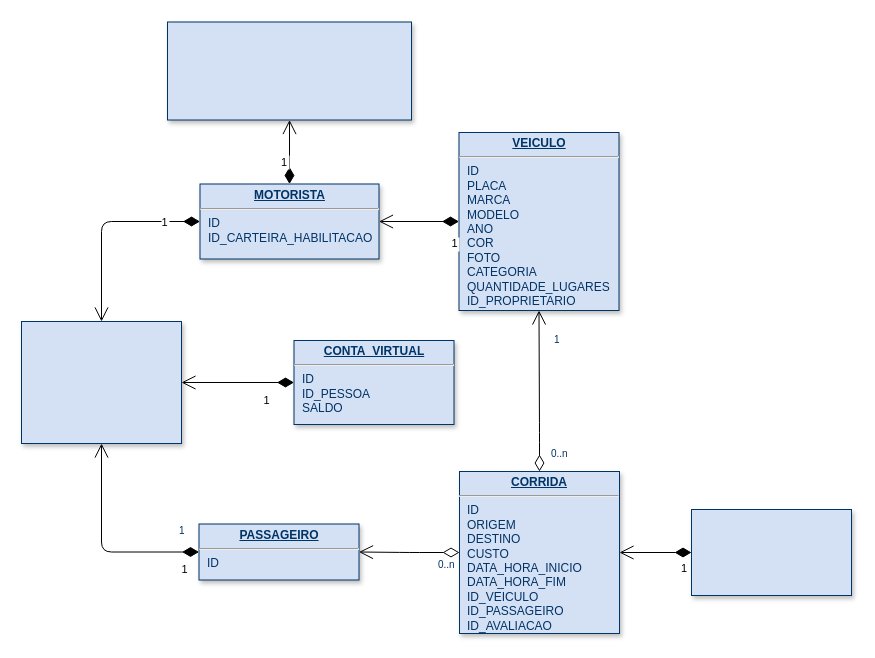
This 875x658 diagram has some shape labels left out. The centre of each missing label's shape, as x and y in pixels:
AVALIACAO ID NOTA_PASSAGEIRO NOTA_MOTORISTA: pixel 772 553
CARTEIRA_NACIONAL_HABILITACAO ID NUMERO CATEGORIA DATA_VENCIMENTO: pixel 290 72
PESSOA ID NOME_COMPLETO DATA_NASCIMENTO EMAIL CPF ATIVO: pixel 102 383
